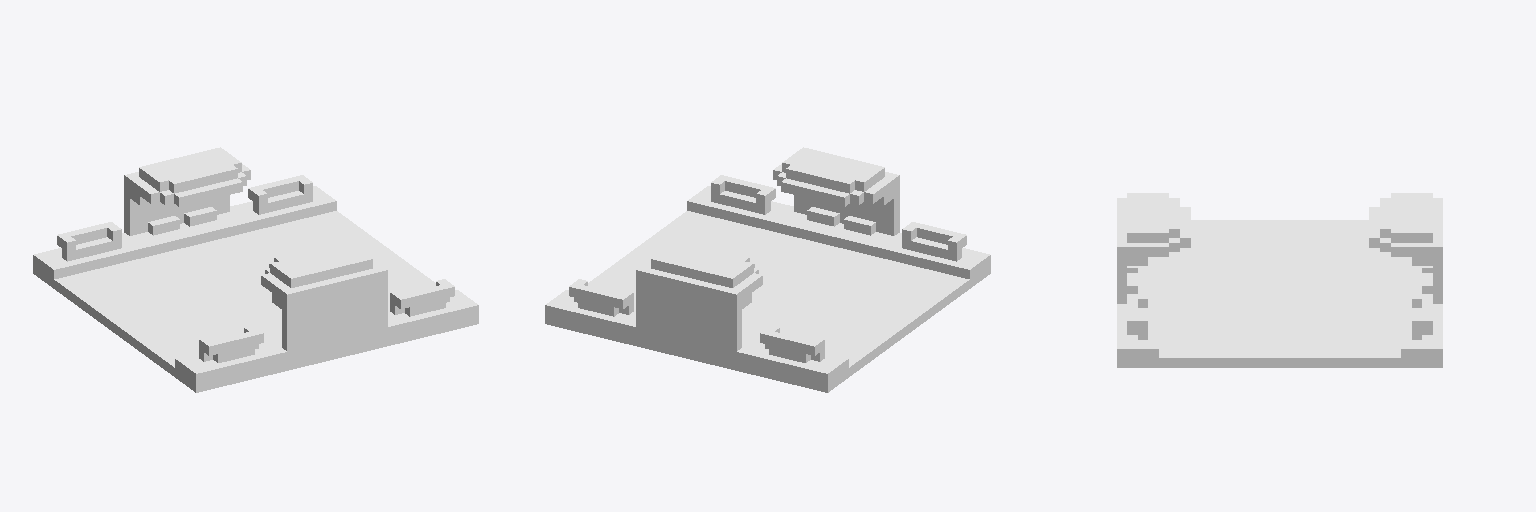
The model's file is Road3.obj.
3 renders of one model, left to right at view 1: azimuth 30°, elevation 25°; view 2: azimuth 150°, elevation 25°; view 3: azimuth 270°, elevation 25°, orthographic.
Parts seen in each view (by area): view 1: Road3; view 2: Road3; view 3: Road3.
Boxes of the visible parts, x1=… form: Road3: x1=33, y1=147, x2=478, y2=392; Road3: x1=545, y1=147, x2=990, y2=392; Road3: x1=1117, y1=193, x2=1442, y2=367.
Size of the model in its own units: 31 by 9 by 31.